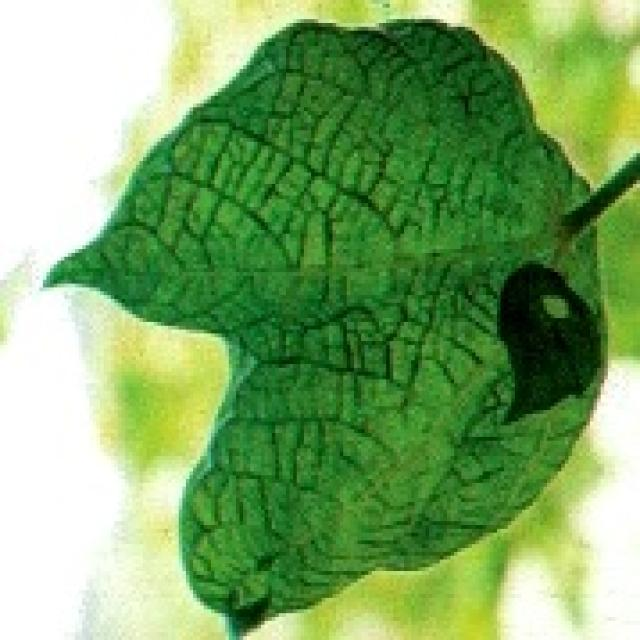Leaf Curl Virus: (341, 190, 619, 490)
